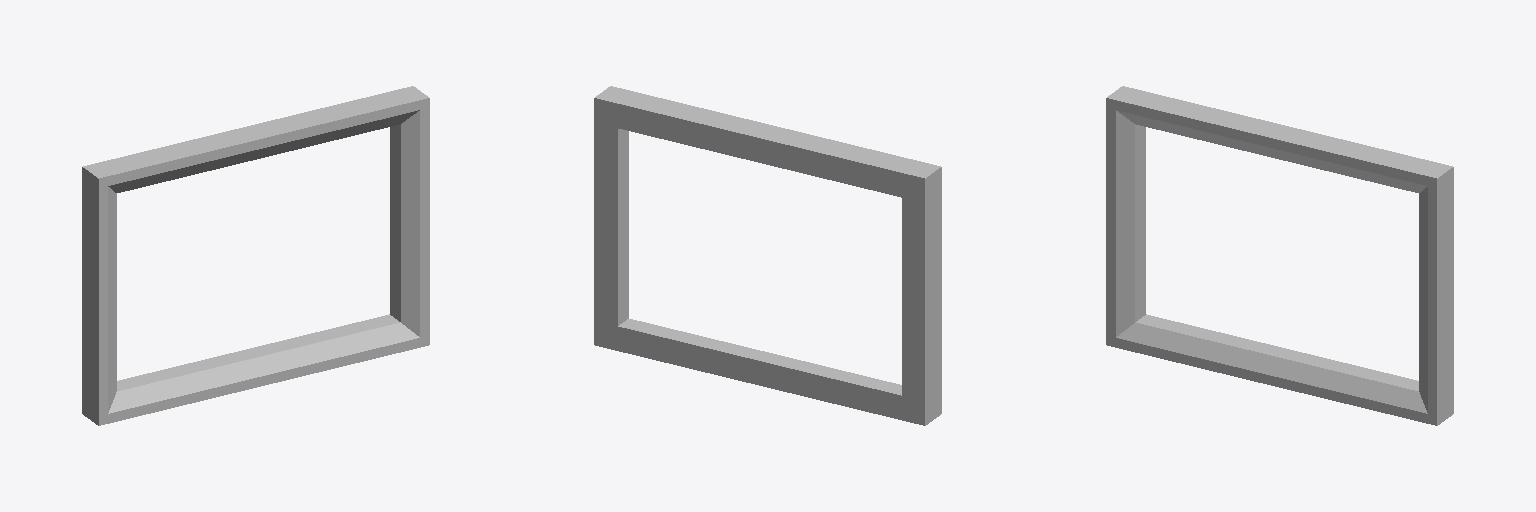
Rendered from frame.obj.
3 renders of one model, left to right at view 1: azimuth 30°, elevation 25°; view 2: azimuth 150°, elevation 25°; view 3: azimuth 330°, elevation 25°, orthographic.
Parts seen in each view (by area): view 1: Cube.001; view 2: Cube.001; view 3: Cube.001.
Part boxes in pixels (x1,y1,x2,y2): Cube.001: (82,86,429,425); Cube.001: (594,86,941,425); Cube.001: (1106,86,1453,425).
Bounding box in the file's own units: 35 × 25 × 3.